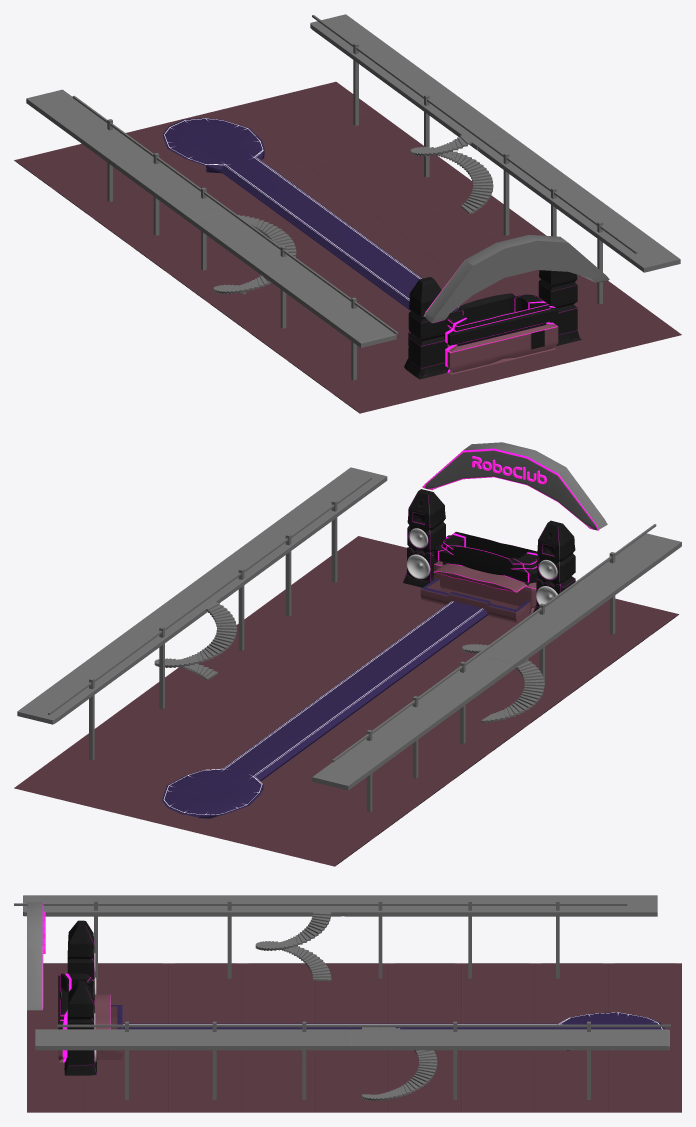
File: KLUBv2.fbx
3 views of the same model, one above another, from view 1: azimuth 30°, elevation 25°; view 2: azimuth 150°, elevation 25°; view 3: azimuth 270°, elevation 25° (orthographic). The views are drawn at different scales.
Visible parts, largest first — view 1: floor_Baked, dancingCube_Baked, RampL.001_Baked, RampL.001_Baked.001, RampL.001_Baked.003, RampL.001_Baked.002, gamePadWall_Baked, dj_up_Baked, dj_down_Baked, RightSpeaker.001_Baked.001, RightSpeaker.001_Baked, stairs_Baked.002 (+3 smaller); view 2: floor_Baked, dancingCube_Baked, RampL.001_Baked.001, RampL.001_Baked, RampL.001_Baked.002, RampL.001_Baked.003, gamePadWall_Baked, dj_up_Baked, dj_down_Baked, RightSpeaker.001_Baked, RightSpeaker.001_Baked.001, stairs_Baked.002 (+4 smaller); view 3: floor_Baked, RampL.001_Baked.002, RampL.001_Baked.003, RampL.001_Baked.001, RampL.001_Baked, dancingCube_Baked, filar.001_Baked.001, RightSpeaker.001_Baked, gamePadWall_Baked, filar.001_Baked, stairs_Baked, RightSpeaker.001_Baked.001 (+6 smaller).
Part boxes in pixels (x1,y1,x2,y2): floor_Baked: (14,81,681,413); dancingCube_Baked: (162,118,459,311); RampL.001_Baked: (193,212,396,347); RampL.001_Baked.001: (26,89,227,224); RampL.001_Baked.003: (477,137,680,272); RampL.001_Baked.002: (310,14,513,150); gamePadWall_Baked: (423,234,609,323); dj_up_Baked: (443,293,558,345); dj_down_Baked: (445,321,558,374); RightSpeaker.001_Baked.001: (404,277,448,379); RightSpeaker.001_Baked: (538,270,581,345); stairs_Baked.002: (410,135,493,214); floor_Baked: (14,536,678,866); dancingCube_Baked: (162,601,488,818); RampL.001_Baked.001: (312,656,514,790); RampL.001_Baked: (479,533,681,668); RampL.001_Baked.002: (17,589,220,724); RampL.001_Baked.003: (185,467,387,601); gamePadWall_Baked: (422,442,607,530); dj_up_Baked: (433,531,538,582); dj_down_Baked: (433,561,536,612); RightSpeaker.001_Baked: (403,489,445,587); RightSpeaker.001_Baked.001: (533,520,575,612); stairs_Baked.002: (154,602,236,680); floor_Baked: (27,963,681,1112); RampL.001_Baked.002: (351,1029,669,1050); RampL.001_Baked.003: (35,1029,351,1050); RampL.001_Baked.001: (341,895,657,916); RampL.001_Baked: (23,895,341,916); dancingCube_Baked: (123,1012,665,1050); filar.001_Baked.001: (57,1024,670,1027); RightSpeaker.001_Baked: (64,980,96,1075); gamePadWall_Baked: (27,902,43,1010); filar.001_Baked: (14,903,627,905); stairs_Baked: (255,912,331,981); RightSpeaker.001_Baked.001: (67,920,94,978).
Size of the model in its own units: 8416 by 3336 by 15763.
